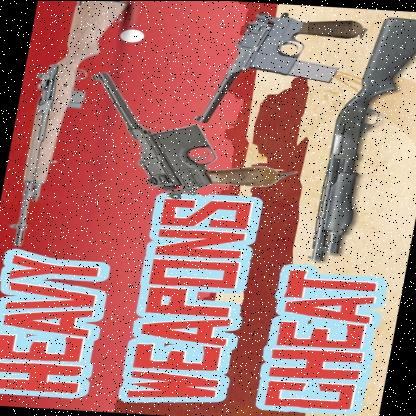rifle: (0, 0, 132, 251), (300, 13, 416, 264)
